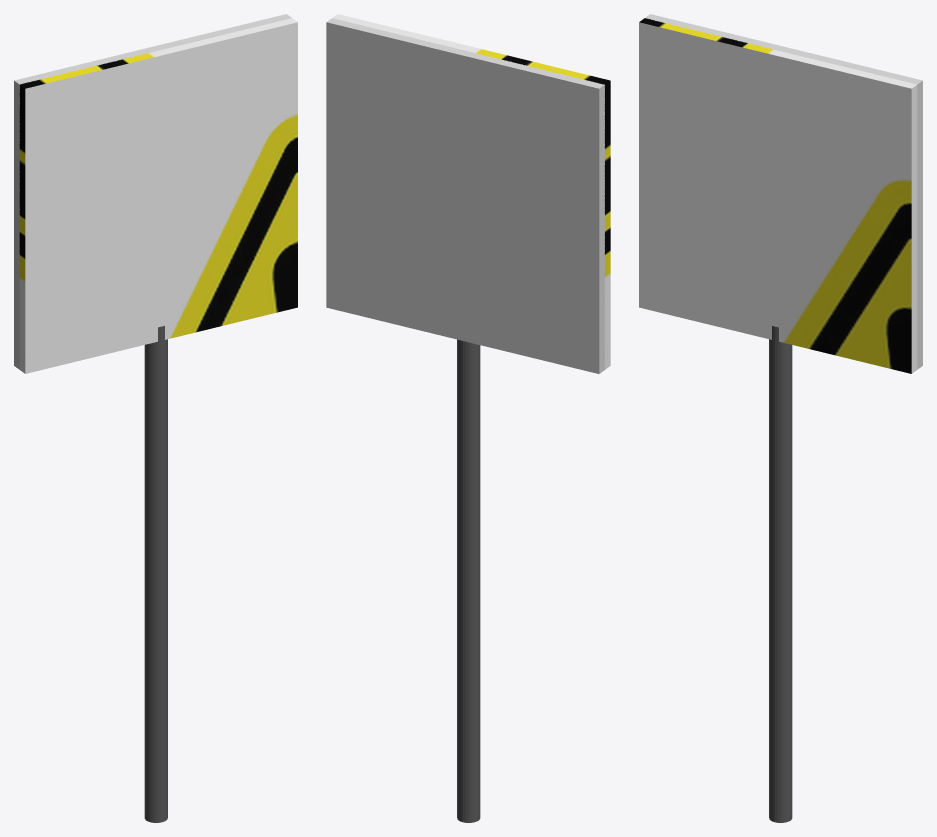
The model's file is teknofest_sign_dikkat.fbx.
The picture shows the model from 3 angles, left to right: view 1: azimuth 30°, elevation 25°; view 2: azimuth 150°, elevation 25°; view 3: azimuth 330°, elevation 25°; orthographic projection.
Parts seen in each view (by area): view 1: teknofest_sign_dikkat_board, teknofest_sign_dikkat_pole, teknofest_sign_dikkat_back; view 2: teknofest_sign_dikkat_back, teknofest_sign_dikkat_pole, teknofest_sign_dikkat_board; view 3: teknofest_sign_dikkat_board, teknofest_sign_dikkat_pole, teknofest_sign_dikkat_back.
Part boxes in pixels (box(x1,y1,x2,y2)): teknofest_sign_dikkat_board: box(19, 18, 297, 373); teknofest_sign_dikkat_pole: box(144, 325, 167, 822); teknofest_sign_dikkat_back: box(14, 14, 291, 369); teknofest_sign_dikkat_back: box(326, 18, 604, 373); teknofest_sign_dikkat_pole: box(457, 339, 480, 822); teknofest_sign_dikkat_board: box(333, 14, 610, 369); teknofest_sign_dikkat_board: box(639, 18, 917, 373); teknofest_sign_dikkat_pole: box(769, 325, 792, 822); teknofest_sign_dikkat_back: box(645, 14, 922, 369).
Size of the model in its own units: 95 by 255 by 7.05.
